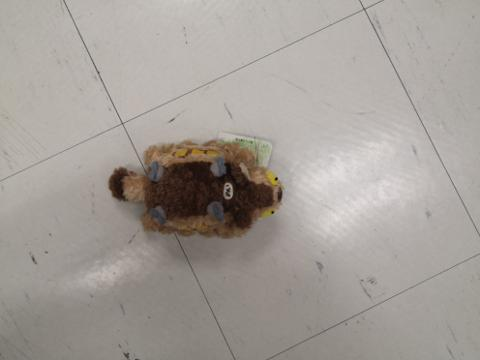nekobus: (102, 128, 287, 245)
